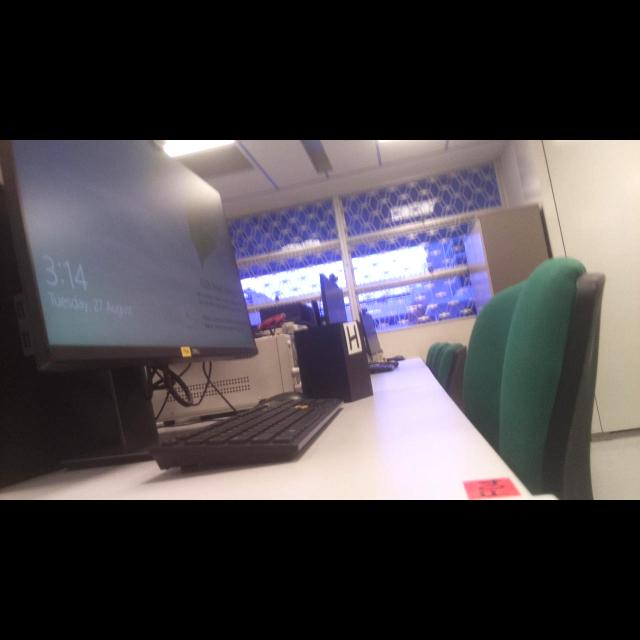H: (347, 324, 359, 350)
